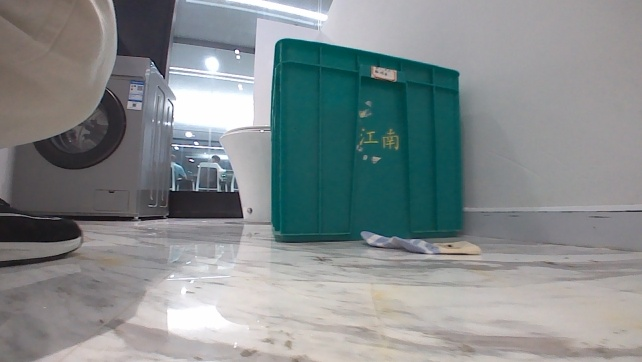socks: (357, 227, 481, 258)
toilet: (217, 122, 274, 224)
washing_machine: (6, 52, 179, 222)
